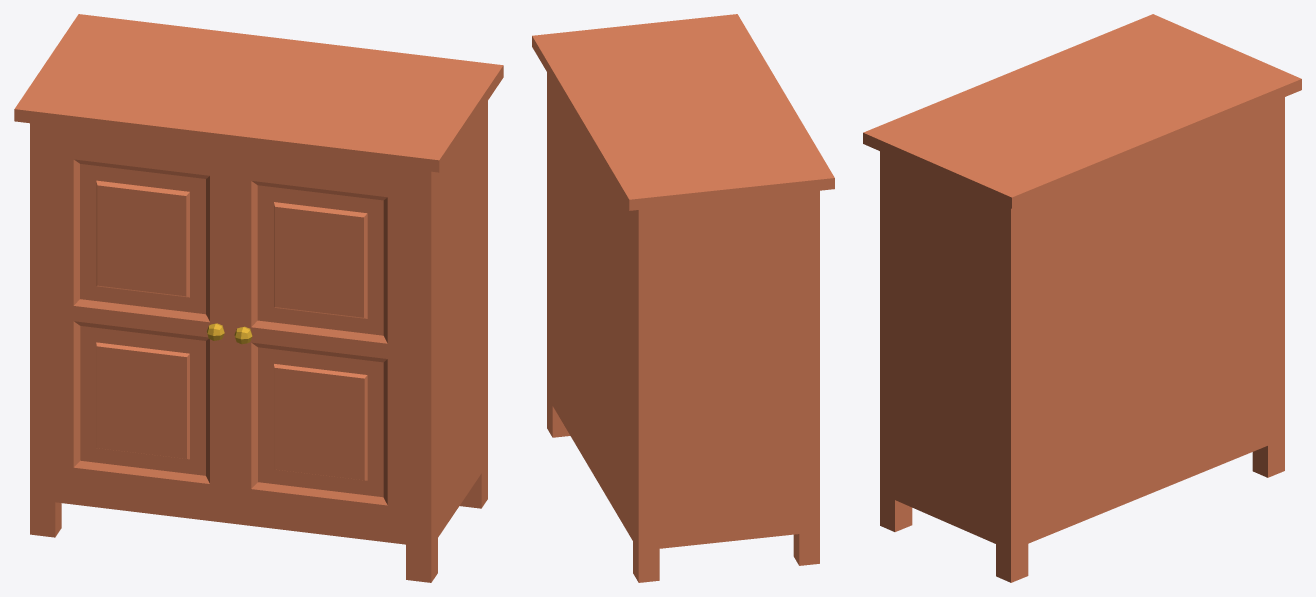
The model's file is cupboad.fbx.
The picture shows the model from 3 angles, left to right: view 1: azimuth 30°, elevation 25°; view 2: azimuth 150°, elevation 25°; view 3: azimuth 270°, elevation 25°; orthographic projection. The views are drawn at different scales.
Visible parts, largest first — view 1: Cube.045; view 2: Cube.045; view 3: Cube.045.
Boxes of the visible parts, x1,y1,x2,y2 form: Cube.045: (14,14,503,582); Cube.045: (532,14,834,582); Cube.045: (863,14,1301,582).
Bounding box in the file's own units: 350 × 349 × 354.
